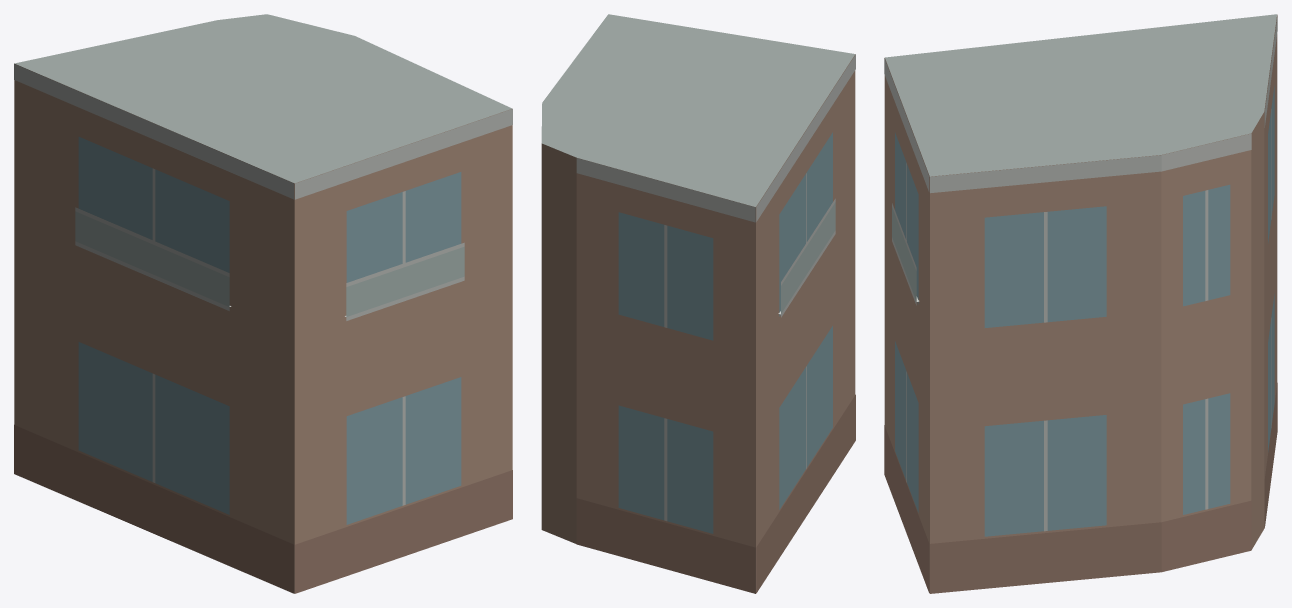
File: survey-upis-32462502.glb
3 views of the same model, side by side, from view 1: azimuth 30°, elevation 25°; view 2: azimuth 150°, elevation 25°; view 3: azimuth 270°, elevation 25° (orthographic). The views are drawn at different scales.
Visible parts, largest first — view 1: survey-upis-32462502.tmp; view 2: survey-upis-32462502.tmp; view 3: survey-upis-32462502.tmp.
Boxes of the visible parts, x1,y1,x2,y2 form: survey-upis-32462502.tmp: (14, 14, 512, 593); survey-upis-32462502.tmp: (541, 14, 855, 593); survey-upis-32462502.tmp: (884, 14, 1277, 593).
Size of the model in its own units: 5.11 by 6.1 by 5.21.
